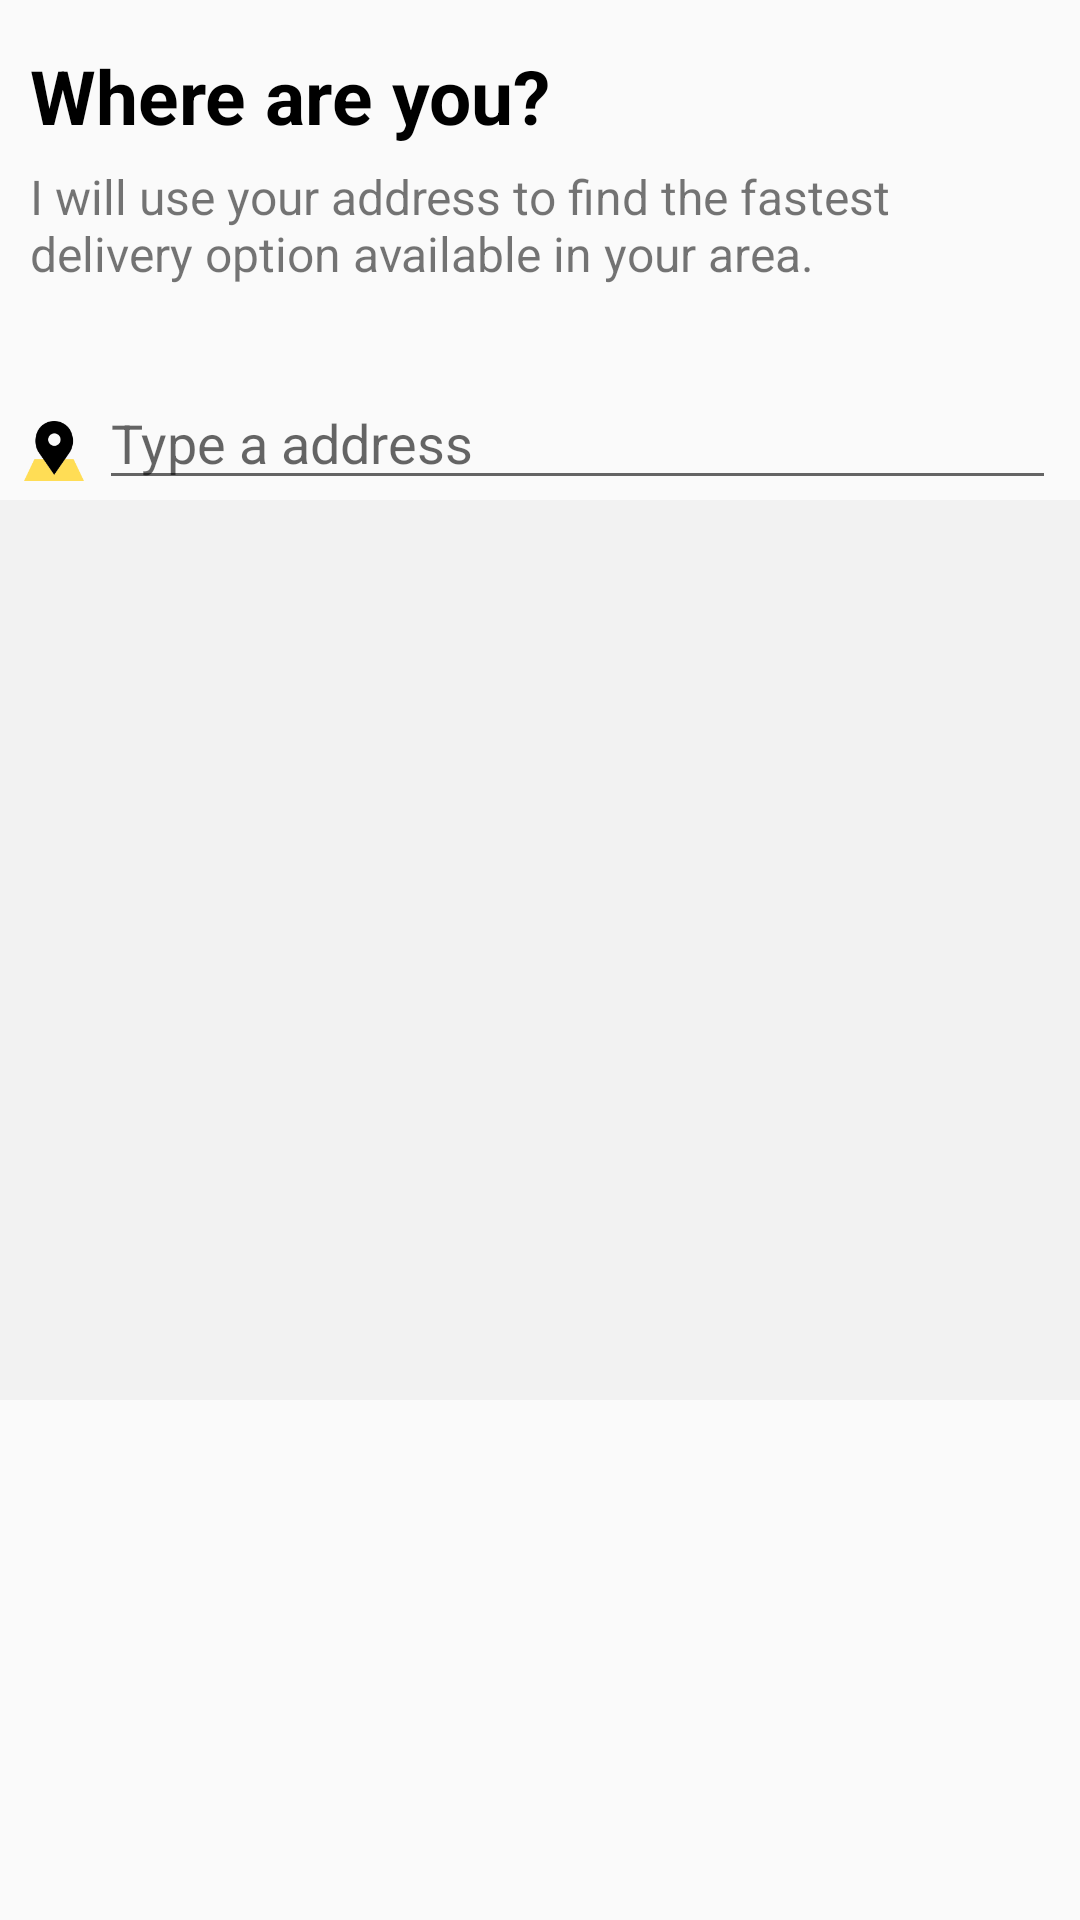

Icon click points for this 1080 × 1920 phone screenshot, format [x,y]:
map: [54,451]
